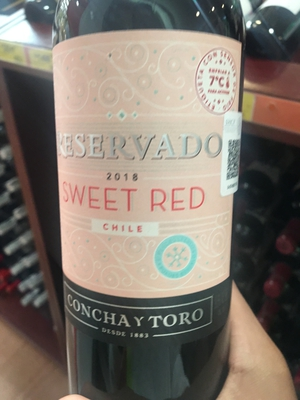reservado sweet red: (51, 7, 254, 393)
